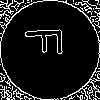F: (25, 25, 72, 58)
